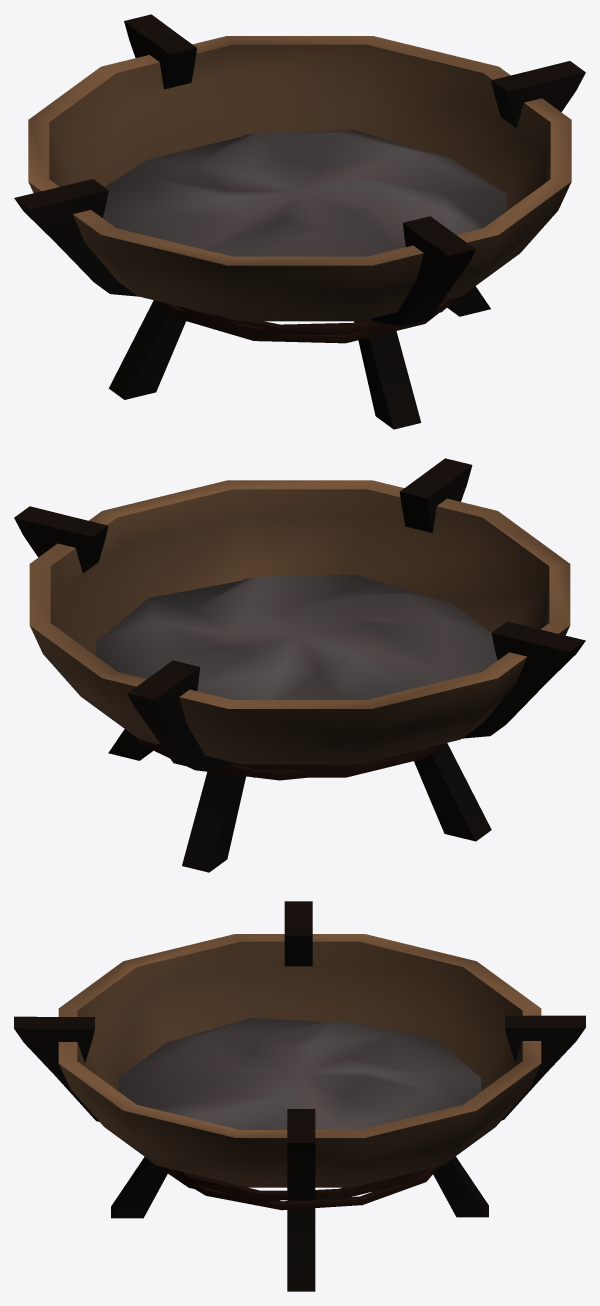
Rendered from ModernFireplace_Ashes.fbx.
3 views of the same model, one above another, from view 1: azimuth 30°, elevation 25°; view 2: azimuth 150°, elevation 25°; view 3: azimuth 270°, elevation 25° (orthographic). The views are drawn at different scales.
Parts seen in each view (by area): view 1: ModernFireplace_Ashes; view 2: ModernFireplace_Ashes; view 3: ModernFireplace_Ashes.
Part boxes in pixels (<box>): ModernFireplace_Ashes: <box>14,14,585,429</box>; ModernFireplace_Ashes: <box>14,458,585,872</box>; ModernFireplace_Ashes: <box>14,901,585,1291</box>.
Bounding box in the file's own units: 166 × 60.77 × 166.
